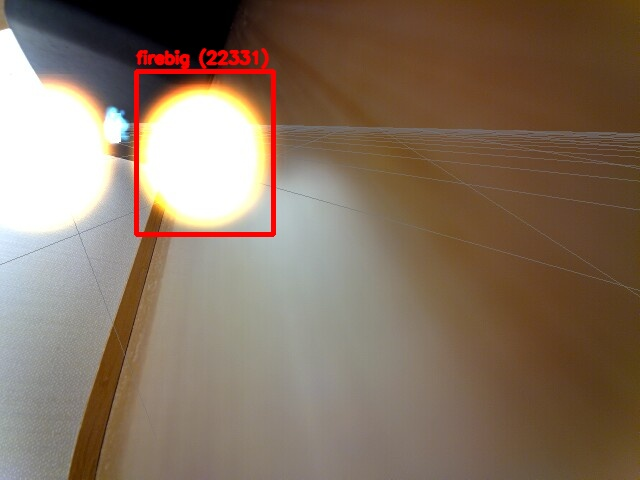firebig: (136, 71, 273, 234)
